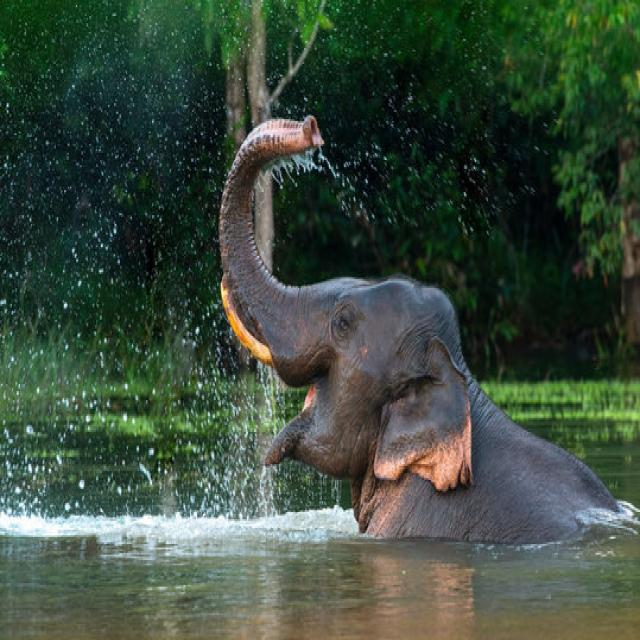Elephant: (213, 93, 640, 606)
